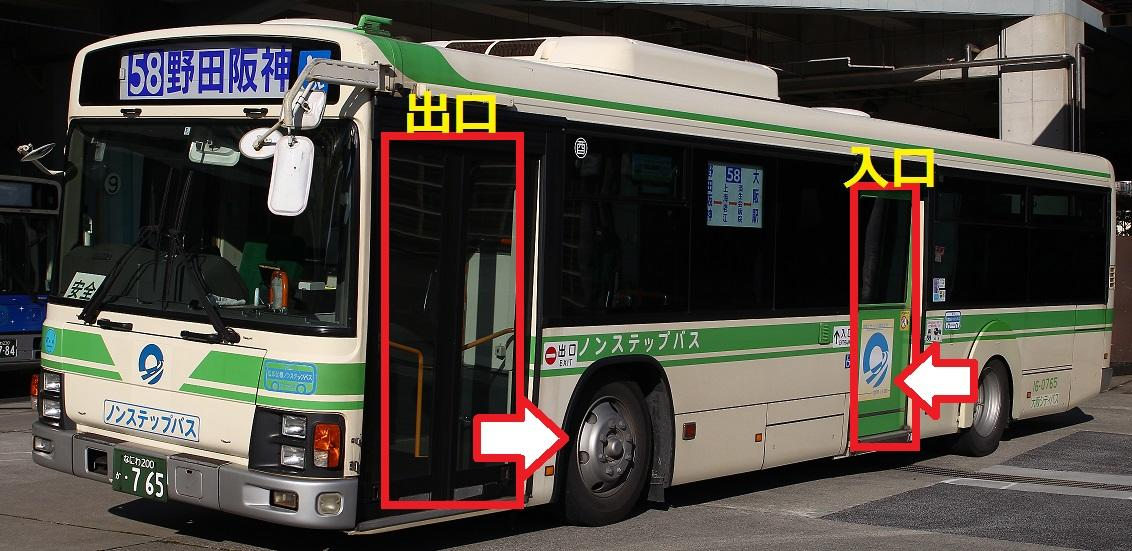destination: (117, 46, 293, 102)
